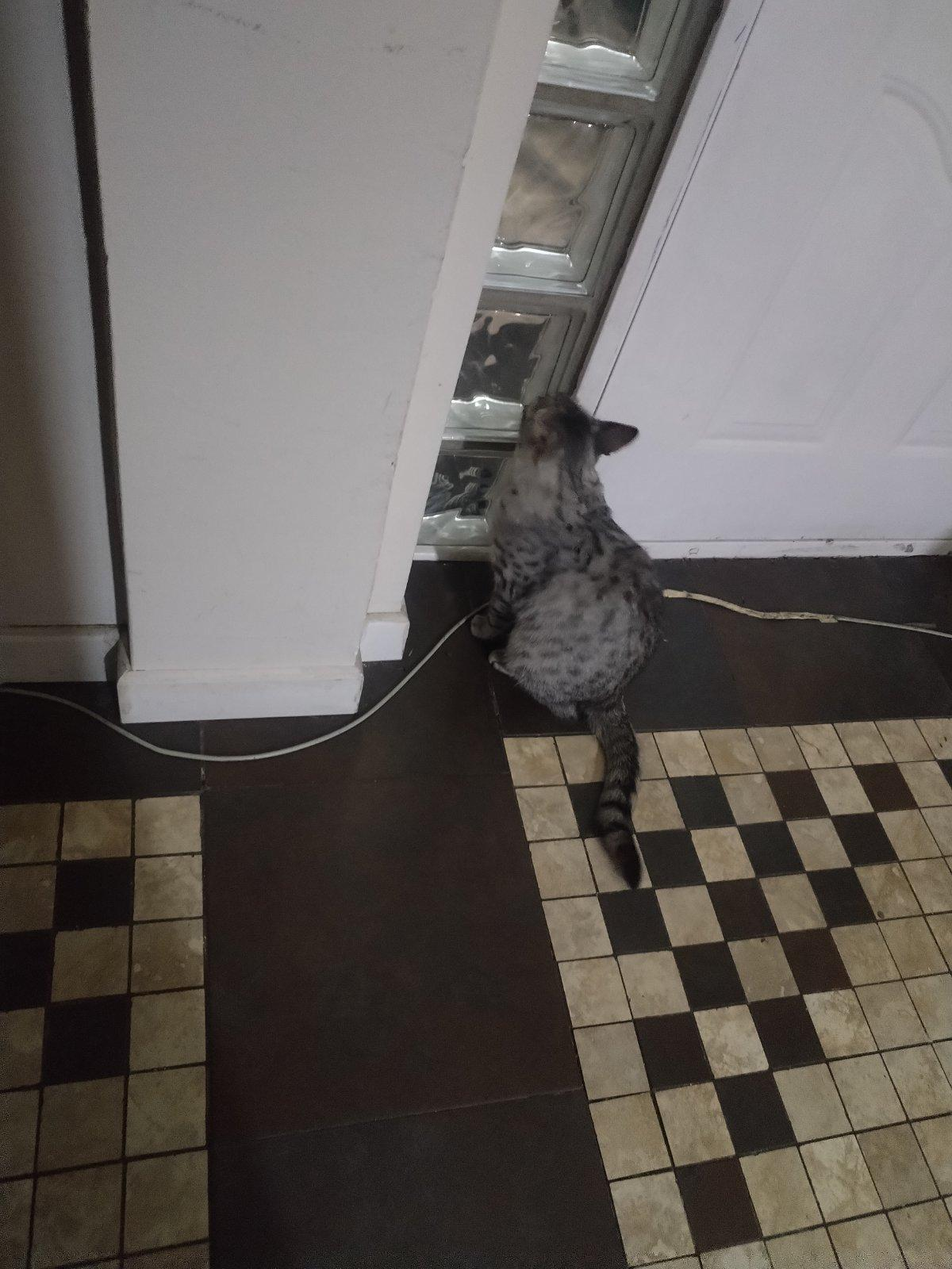macka: (466, 390, 658, 889)
